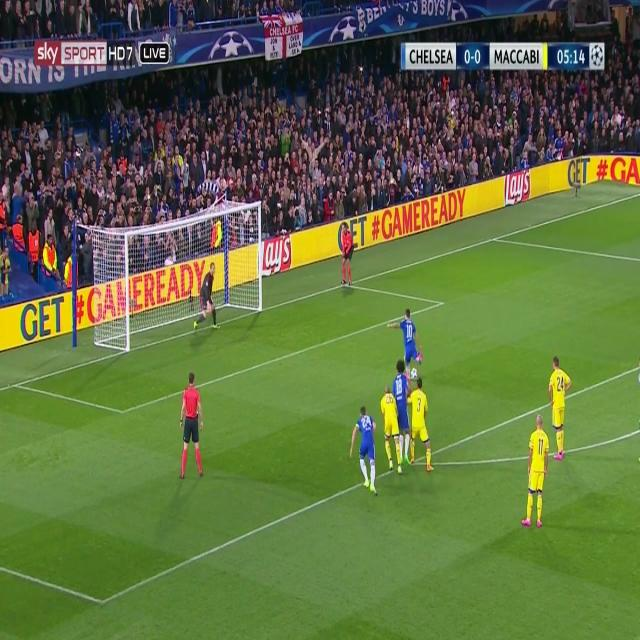Ball: (409, 364, 419, 383)
Goalkeeper: (191, 259, 219, 333)
Player: (520, 412, 552, 532), (348, 402, 380, 498), (405, 378, 435, 473), (386, 308, 423, 378), (548, 355, 572, 462), (391, 358, 412, 474), (378, 384, 404, 475)
Referee: (176, 368, 206, 483), (339, 219, 354, 293)
